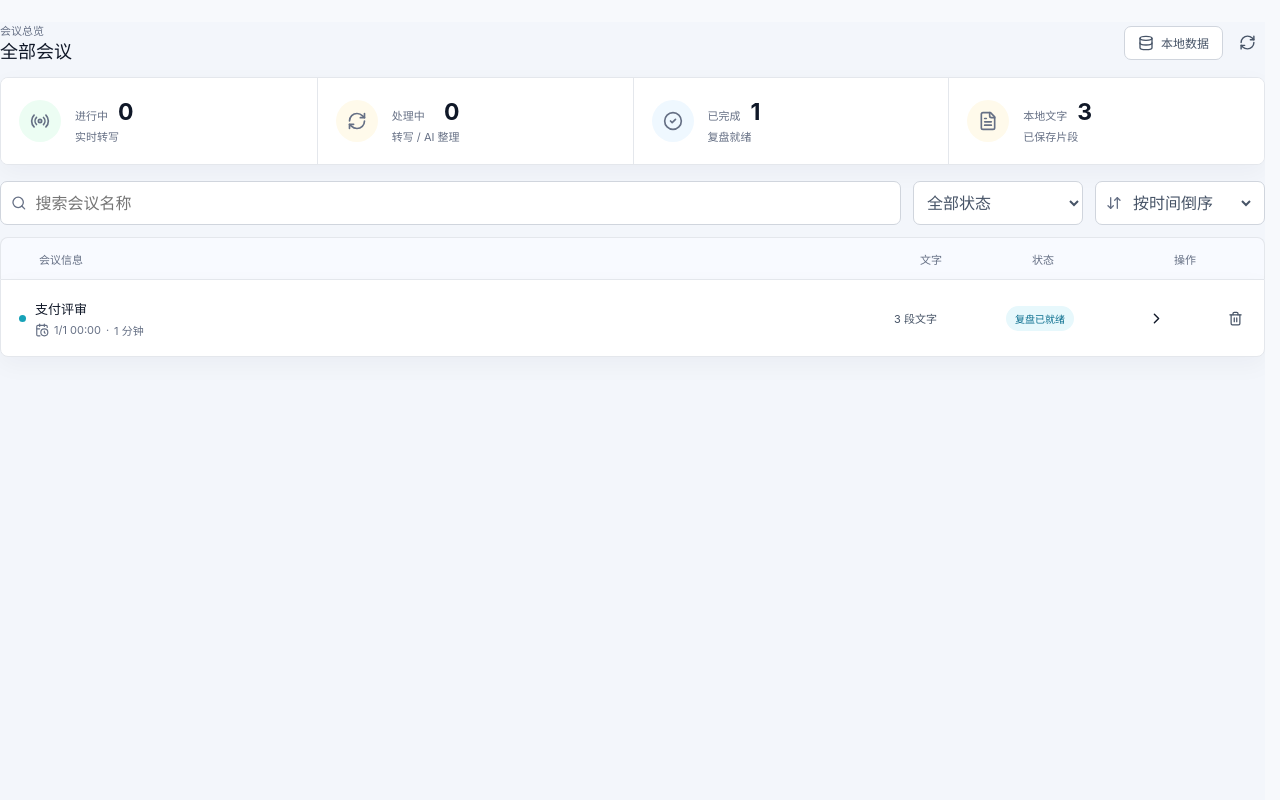
it: MeetingHistory › keeps the deletion dialog open with an actionable error when deletion fails
The width and height of the screenshot is (1280, 800).
Click the button named "管理本地数据：支付评审".
click(1235, 318)  # box [1220,303,1250,333]
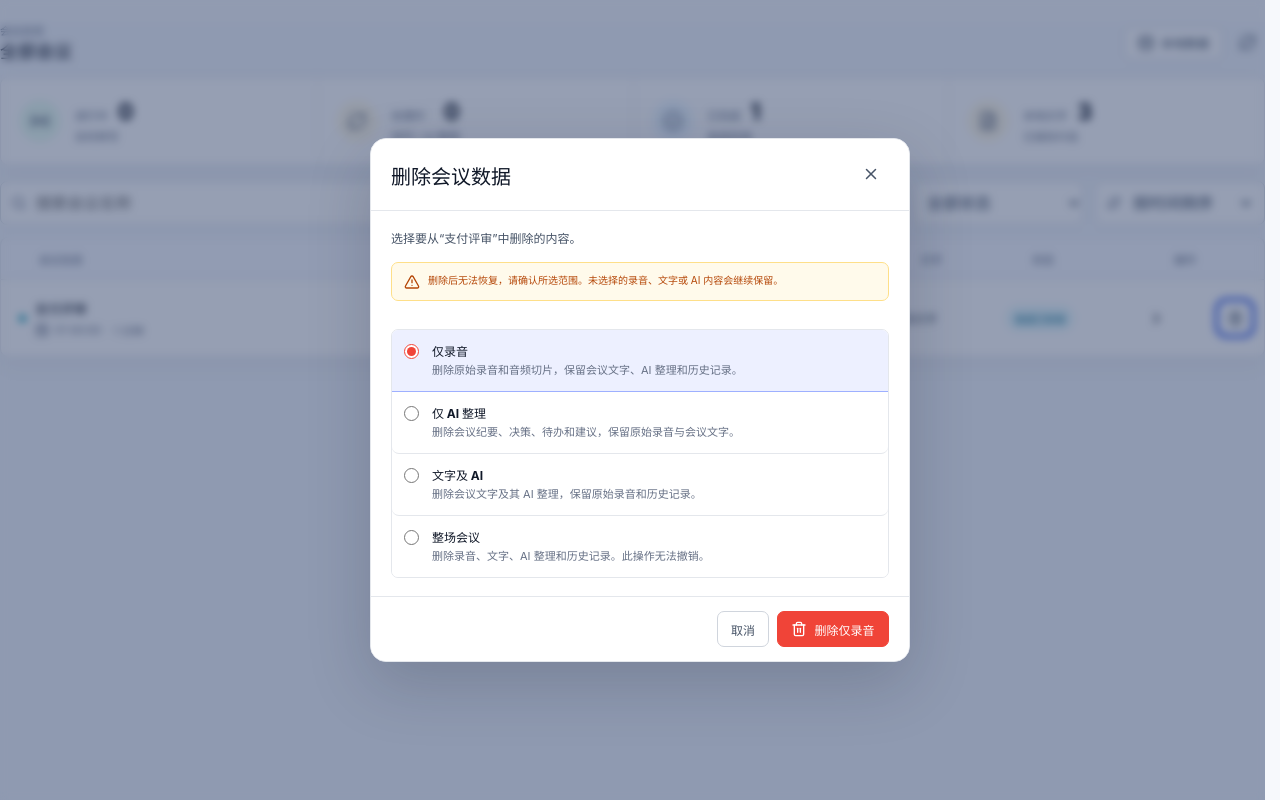
Click the button "删除仅录音".
click(833, 630)  # box [777,612,889,648]
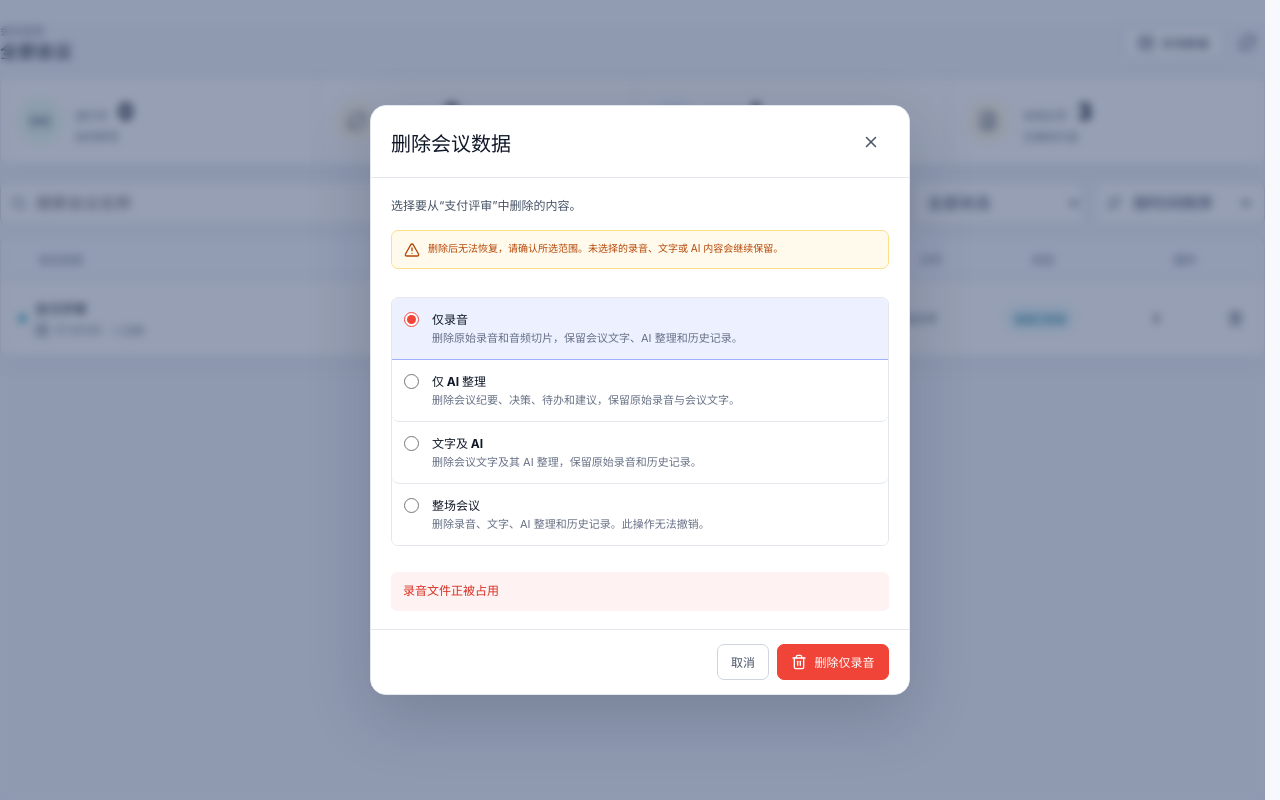
Result: the dialog "删除会议数据" is shown at [370,105,910,695]
Result: the button "删除仅录音" is enabled at [777,644,889,680]
Result: the message reads "录音文件正被占用" at [403,583,499,598]
